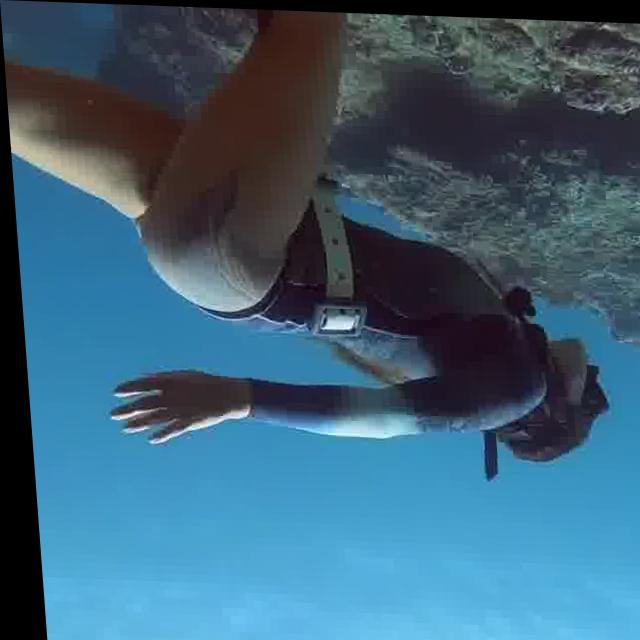human: (0, 0, 610, 495)
